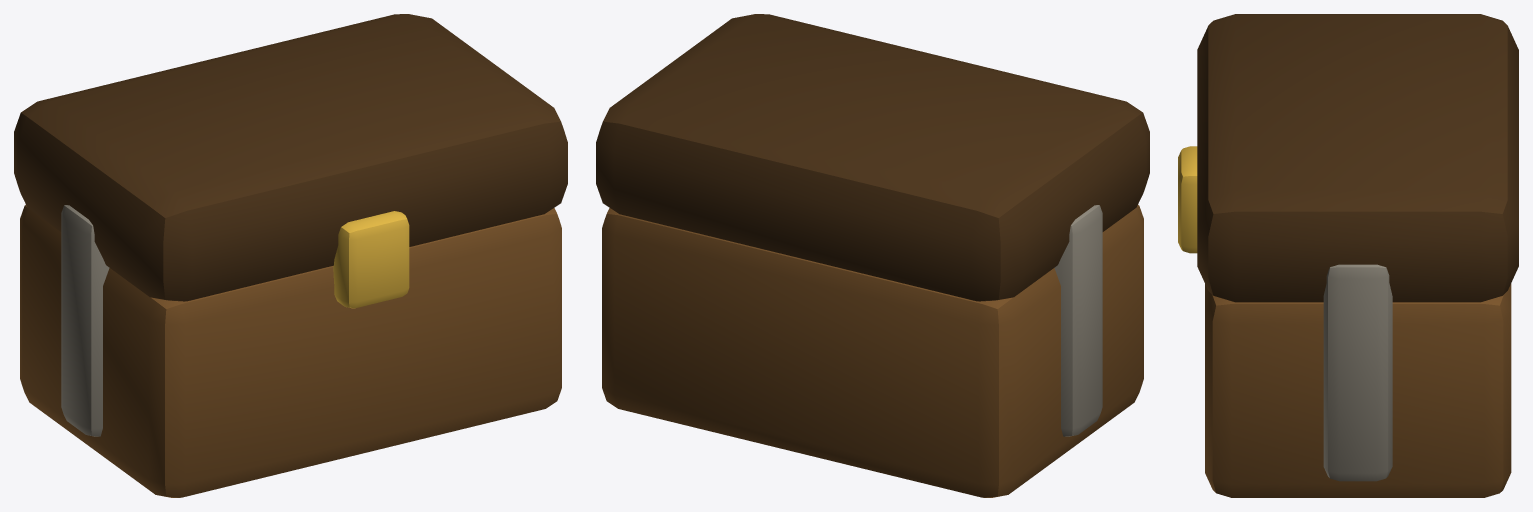
The model's file is prop_chest.glb.
3 renders of one model, left to right at view 1: azimuth 30°, elevation 25°; view 2: azimuth 150°, elevation 25°; view 3: azimuth 270°, elevation 25°, orthographic.
Visible parts, largest first — view 1: chest_lid, chest_base, chest_band, chest_clasp; view 2: chest_lid, chest_base, chest_band; view 3: chest_lid, chest_base, chest_band, chest_clasp.
Part boxes in pixels (x1,y1,x2,y2): chest_lid: (14, 14, 567, 301); chest_base: (20, 205, 561, 497); chest_band: (61, 205, 109, 436); chest_clasp: (333, 211, 409, 308); chest_lid: (596, 14, 1149, 301); chest_base: (602, 205, 1143, 497); chest_band: (1054, 205, 1102, 436); chest_lid: (1197, 14, 1518, 302); chest_base: (1205, 283, 1511, 497); chest_band: (1323, 264, 1392, 481); chest_clasp: (1178, 146, 1197, 253).
Bounding box in the file's own units: 0.66 × 0.44 × 0.445.
